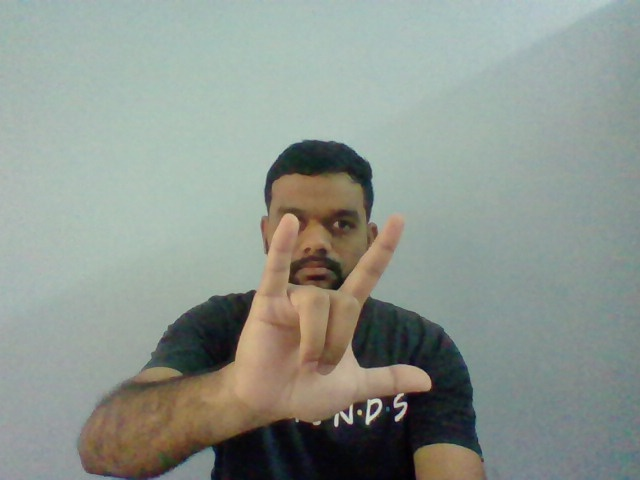I love you: (237, 210, 435, 424)
